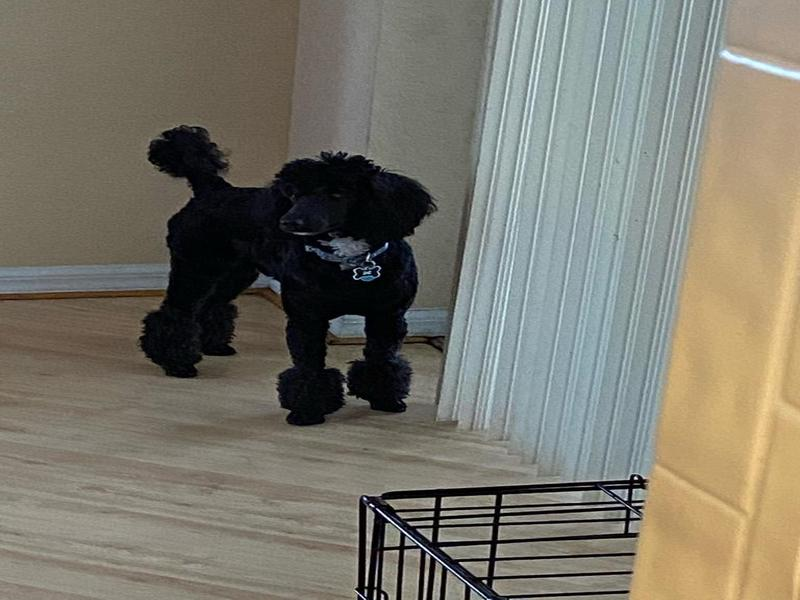dog_stand: (138, 124, 442, 429)
